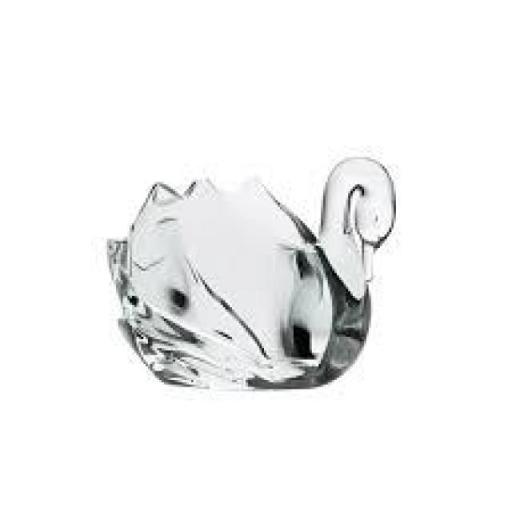glass: (80, 128, 438, 418)
